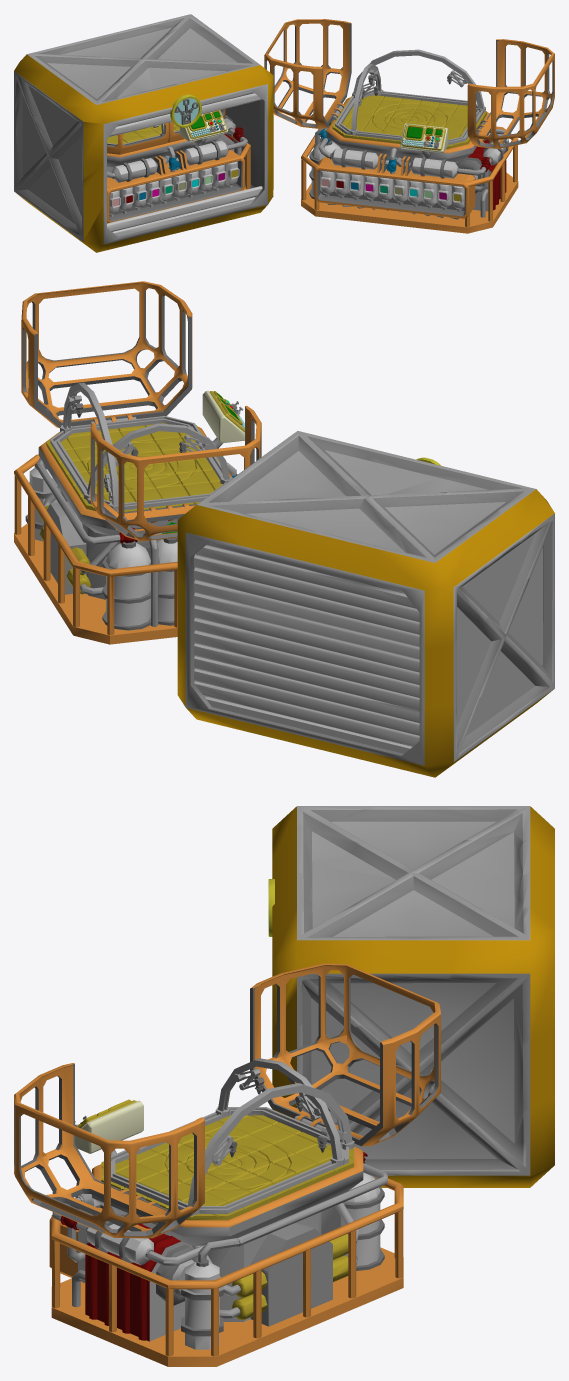
File: fabricator.glb
3 views of the same model, one above another, from view 1: azimuth 30°, elevation 25°; view 2: azimuth 150°, elevation 25°; view 3: azimuth 270°, elevation 25° (orthographic). The views are drawn at different scales.
Visible parts, largest first — view 1: Geode; view 2: Geode; view 3: Geode.
Boxes of the visible parts, x1,y1,x2,y2 form: Geode: (14,14,554,252); Geode: (14,281,554,777); Geode: (14,806,554,1366).
Size of the model in its own units: 2.87 by 0.9734 by 1.93.
